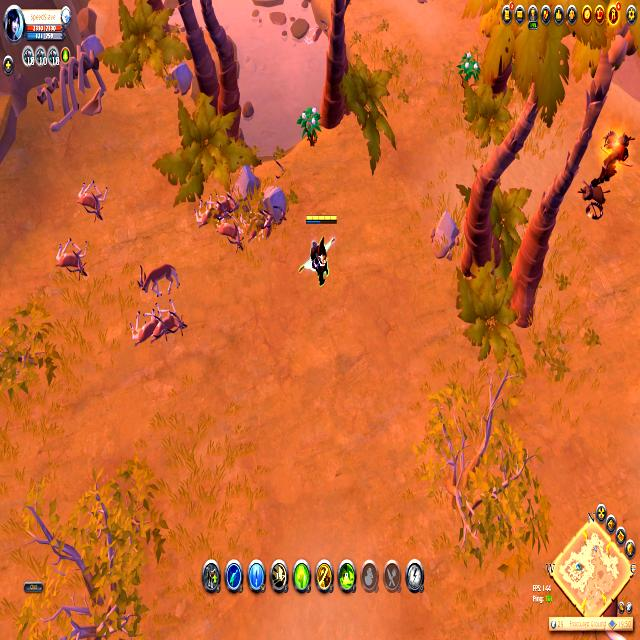hide: (298, 104, 322, 144), (459, 50, 479, 84)
mob: (128, 299, 187, 349), (52, 233, 90, 283), (193, 191, 238, 229), (75, 174, 110, 222), (242, 204, 277, 247), (215, 209, 248, 252), (303, 19, 329, 50)
ore: (590, 140, 633, 189), (133, 262, 183, 296)
red: (304, 212, 336, 284)
